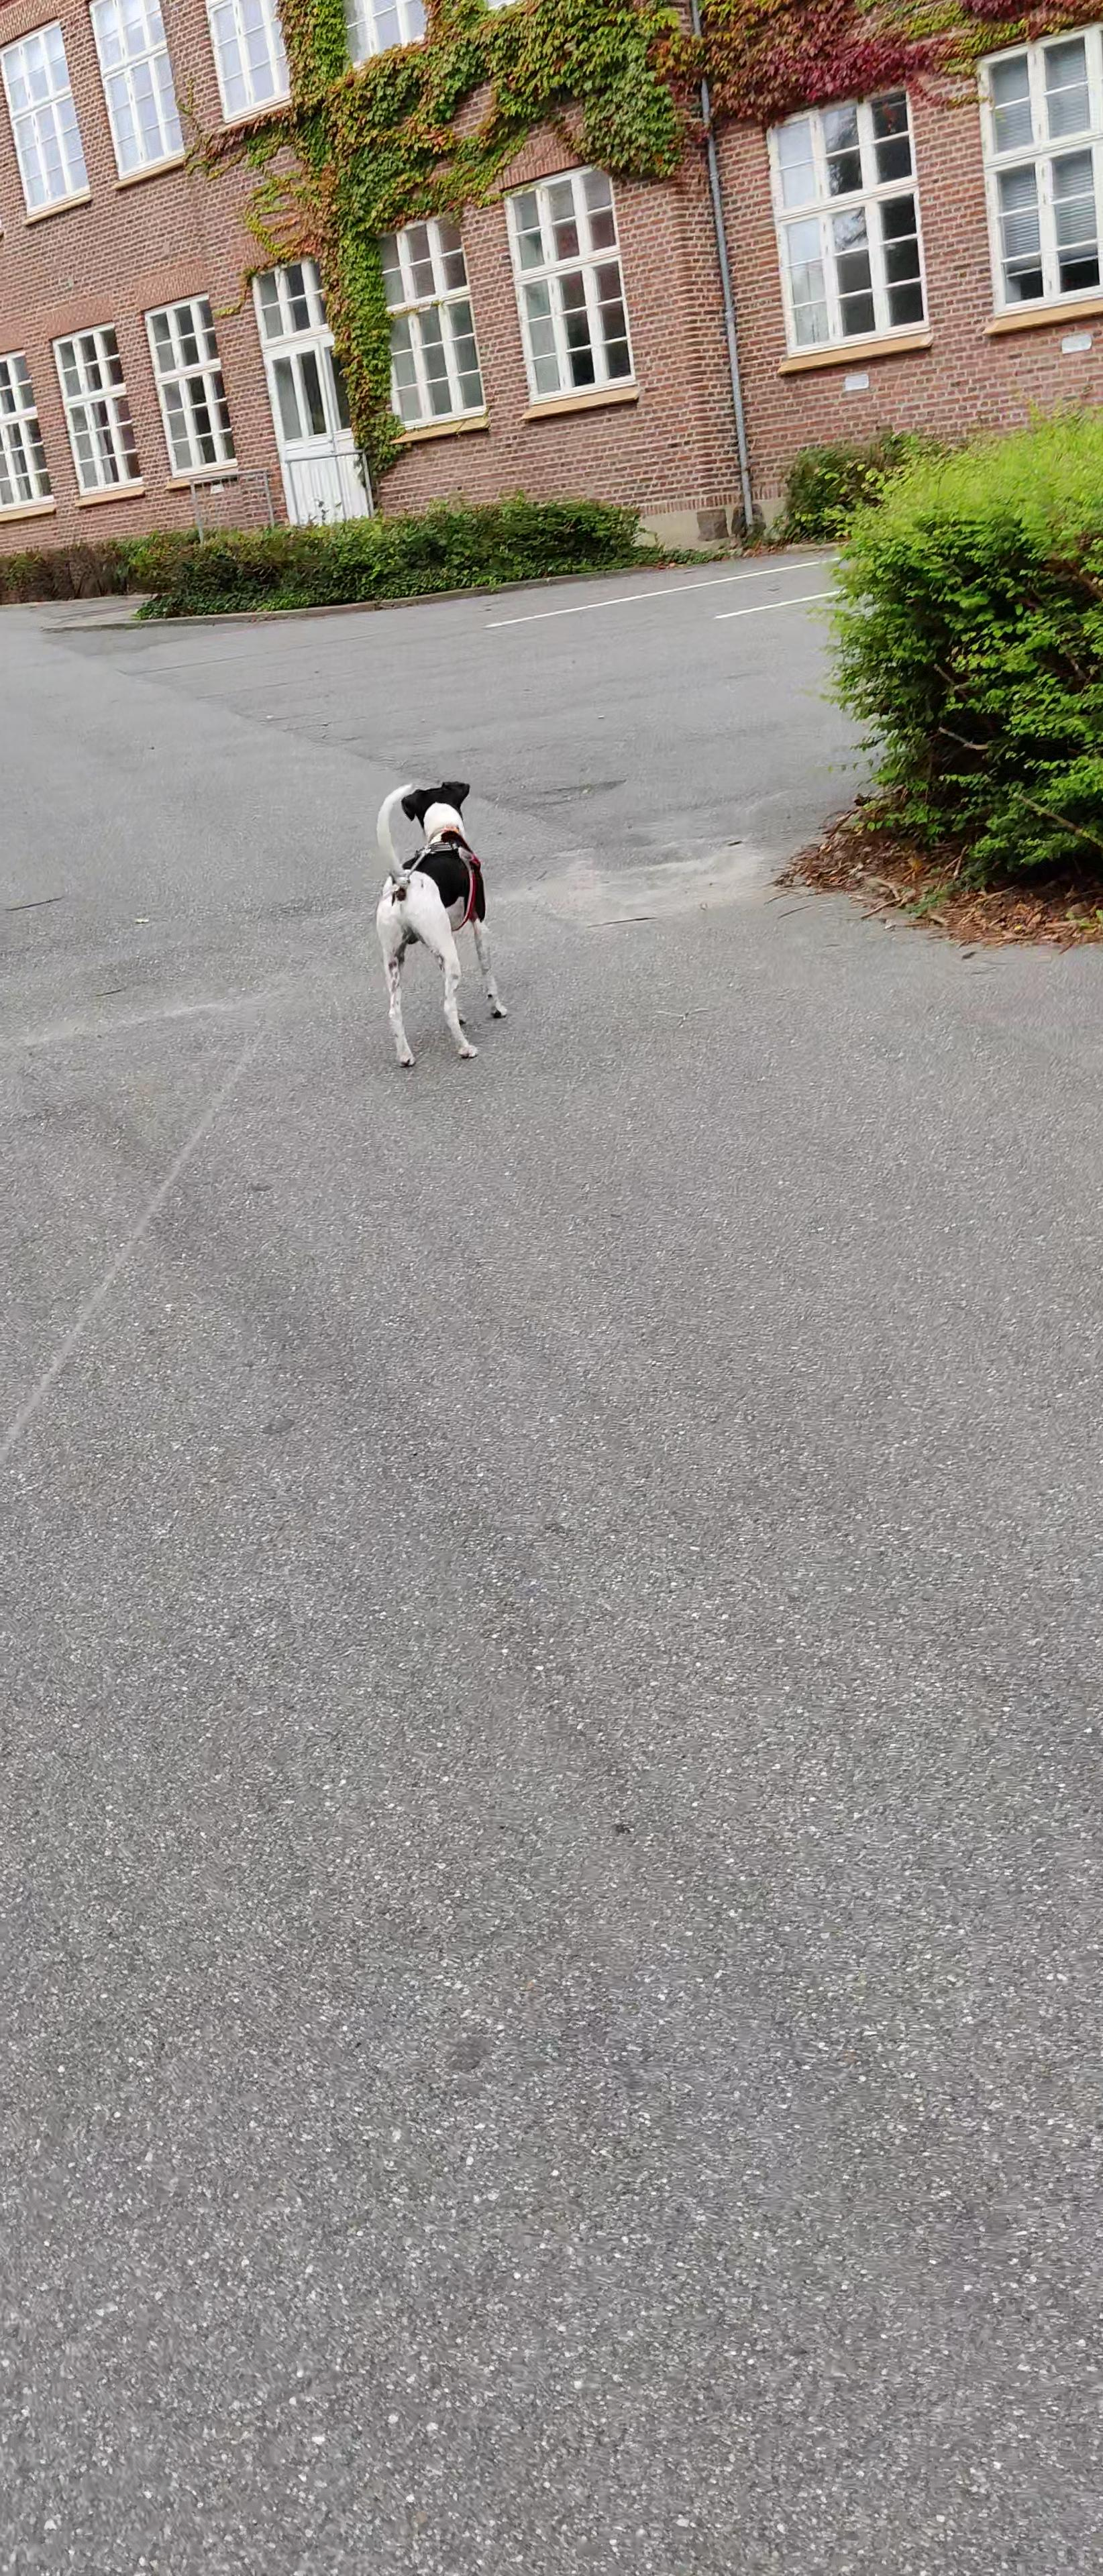Dog: (352, 772, 524, 1068)
